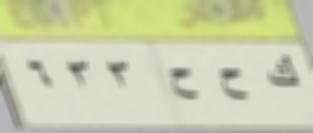3: (62, 55, 95, 91), (106, 58, 135, 93)
6: (25, 55, 55, 92)
7aa: (217, 64, 251, 104), (168, 62, 199, 104)
kaaf: (265, 51, 300, 96)
